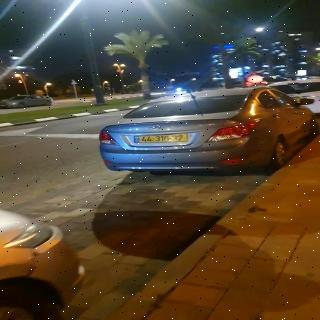LicensePlate: (139, 135, 187, 142)
